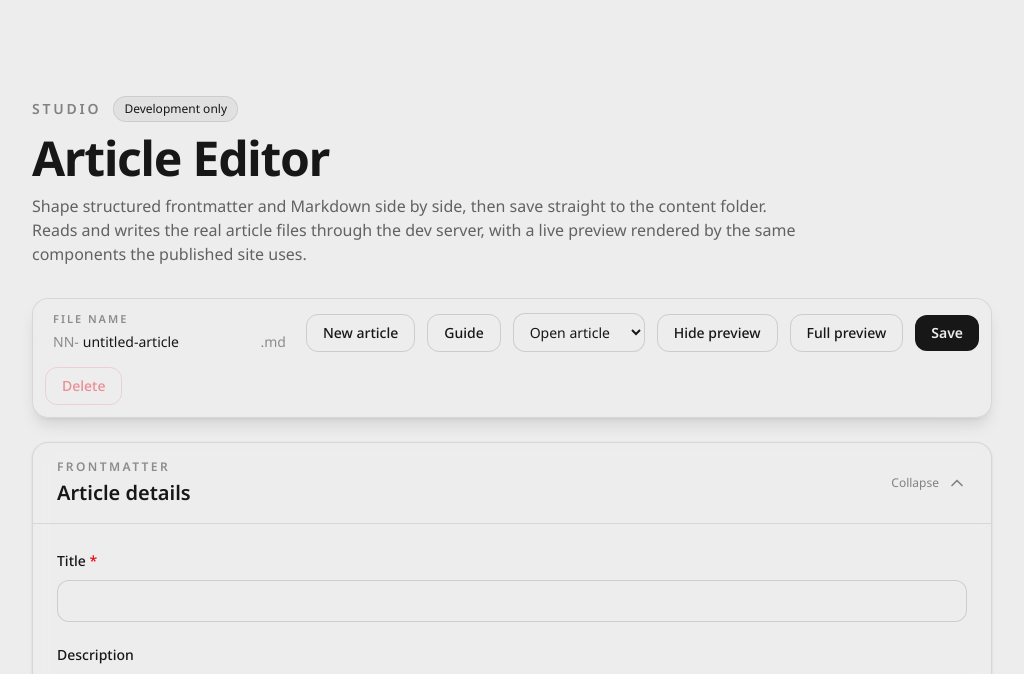
Test: ArticleEditor › derives the file slug from the title and flags unsaved edits
The image size is (1024, 674).
Type "Tunnels & DNS, Explained!" into the field labelled "Title *".
click(512, 600); type("Tunnels & DNS, Explained!")  # box [57,580,967,622]
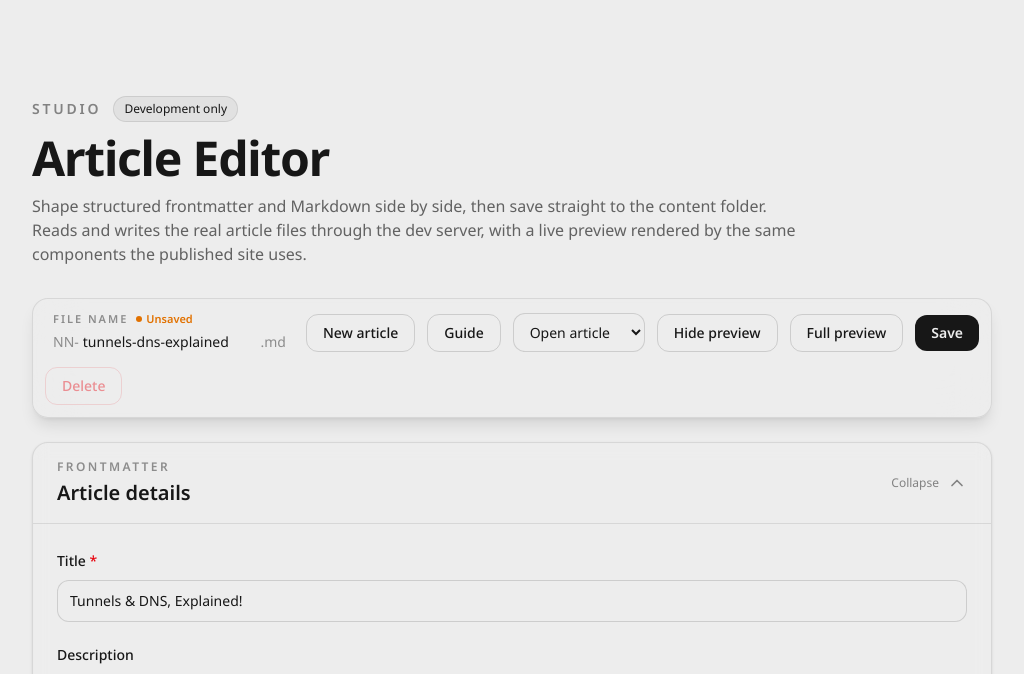
expect the field named "File name slug" holds "tunnels-dns-explained": met, box [83,330,256,354]
expect the text "Unsaved" is shown: met, box [136,311,193,328]
